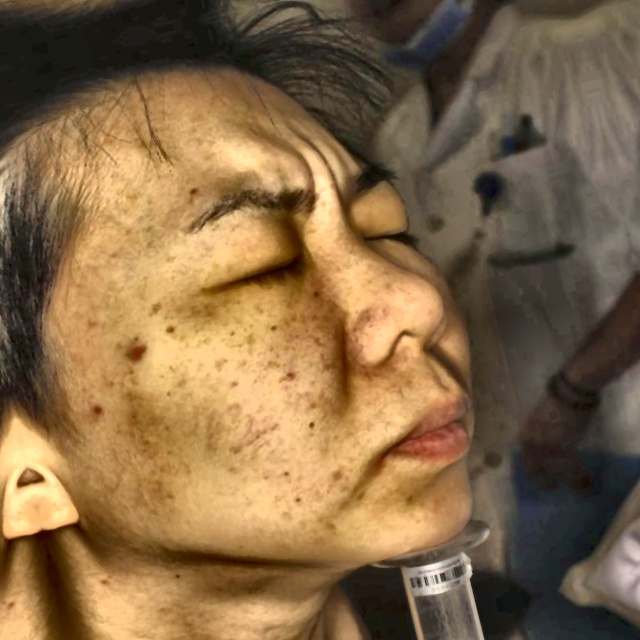comedone: (124, 340, 150, 370)
